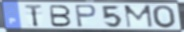5: (100, 5, 124, 28)
B: (49, 4, 73, 28)
M: (123, 5, 155, 29)
O: (152, 5, 178, 30)
P: (74, 4, 99, 28)
T: (24, 4, 44, 28)
